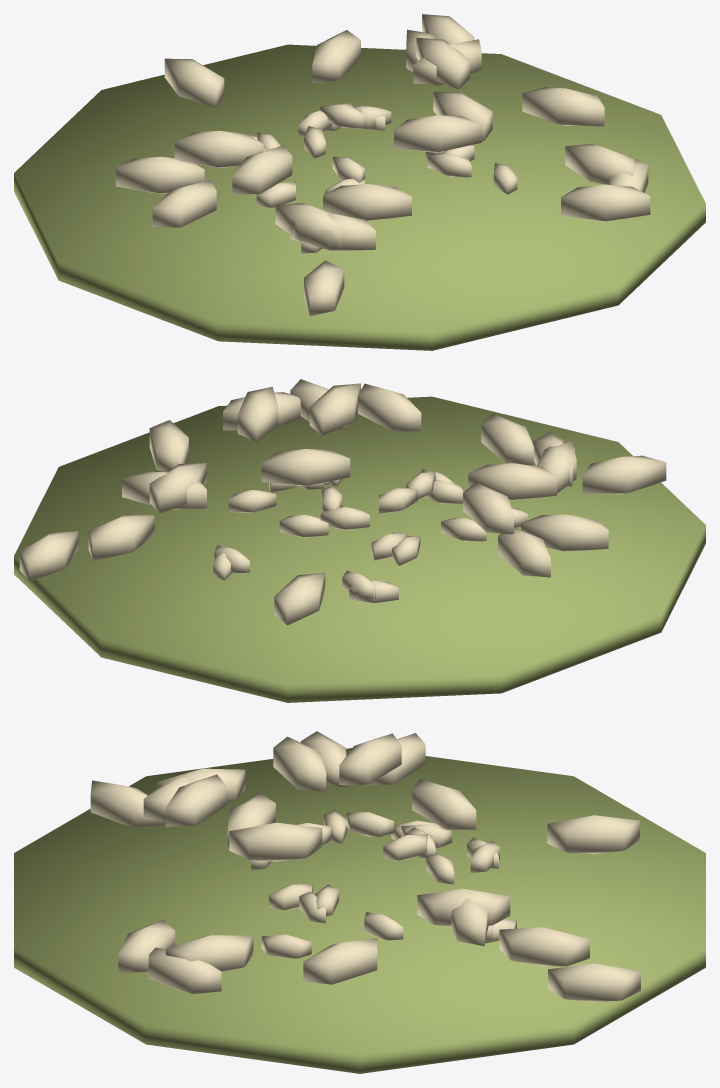
File: Nut_PineNut.fbx
3 renders of one model, top to bottom at view 1: azimuth 30°, elevation 25°; view 2: azimuth 150°, elevation 25°; view 3: azimuth 270°, elevation 25°, orthographic. The views are drawn at different scales.
Visible parts, largest first — view 1: Nut_PineNut__Stack, Nut_PineNut; view 2: Nut_PineNut__Stack, Nut_PineNut; view 3: Nut_PineNut__Stack, Nut_PineNut.
Part boxes in pixels (x1,y1,x2,y2): Nut_PineNut__Stack: (14,14,705,350); Nut_PineNut: (212,102,517,253); Nut_PineNut__Stack: (14,379,705,702); Nut_PineNut: (213,469,527,603); Nut_PineNut__Stack: (14,731,705,1073); Nut_PineNut: (251,810,516,958).
Size of the model in its own units: 0.162 by 0.0348 by 0.1541.
